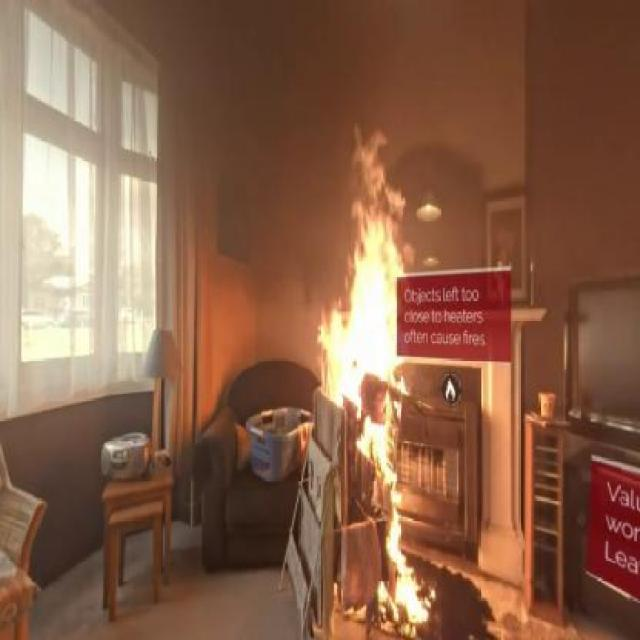fire: (318, 184, 402, 453)
smoke: (203, 31, 334, 291)
